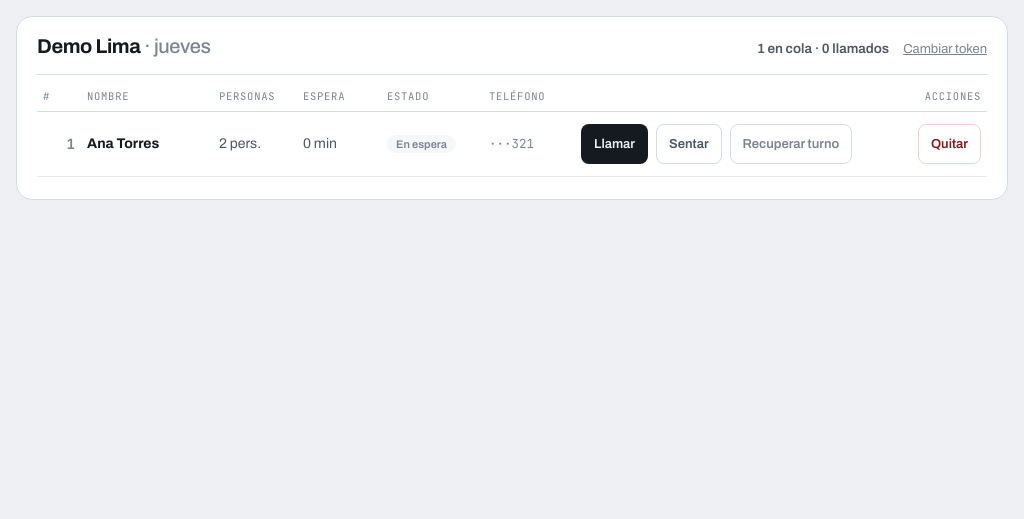
Scenario: TabletPage: acciones › un 401 al recuperar el enlace vuelve al formulario del token
This screenshot has width=1024, height=519.
Expected: the text "Ana Torres" is shown, 87,136 -> 159,151
What coordinates should you click on to do the following:
click the button "Recuperar turno"
I would click on:
 (791, 144)
Its box is 730,124 -> 852,164.
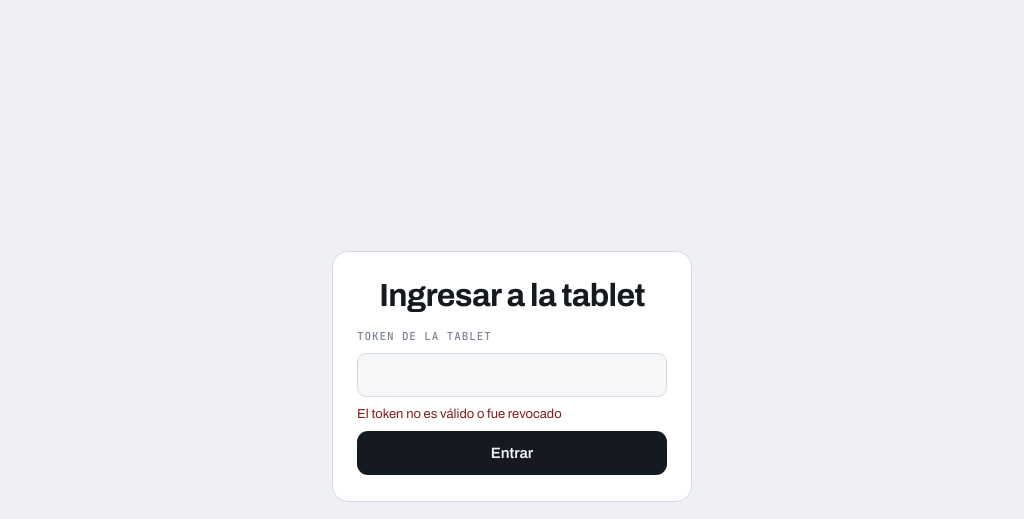
Expected: the field labelled "Token de la tablet" is shown, 357,352 -> 667,396
Now the text "El token no es válido o fue revocado" is shown, box 357,406 -> 562,420
